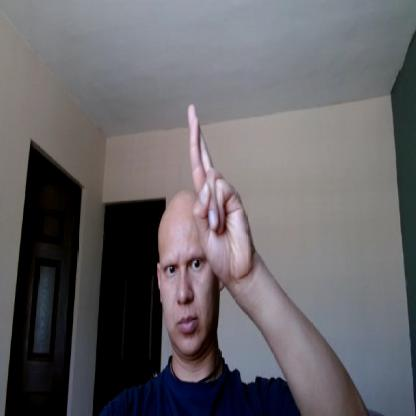R: (186, 103, 252, 284)
